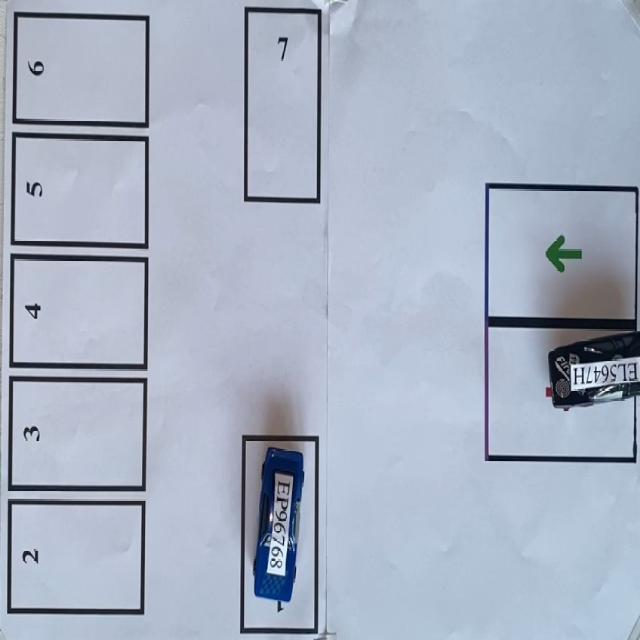car: (254, 448, 303, 610), (548, 332, 639, 408)
